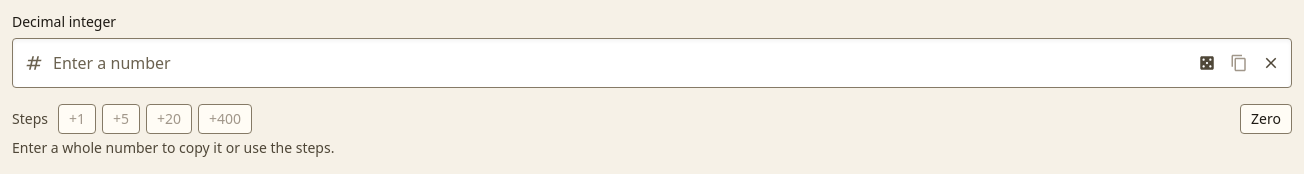
NumberInput › removes the leading zeros of a valid integer, keeping its value
Type "007" into the field labelled "Decimal integer" at coordinates (652, 63), box [12,38,1292,88]
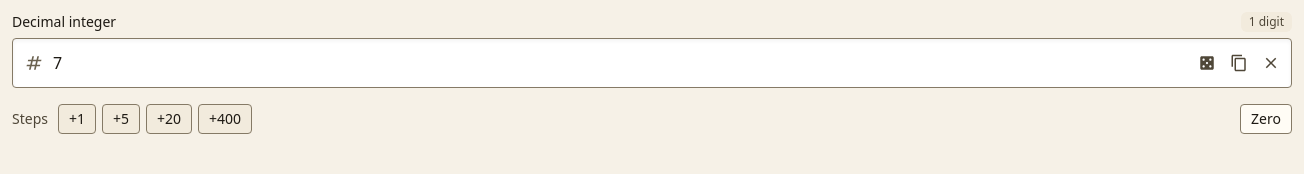
expect the field labelled "Decimal integer" holds "7": met, box [12,38,1292,88]
